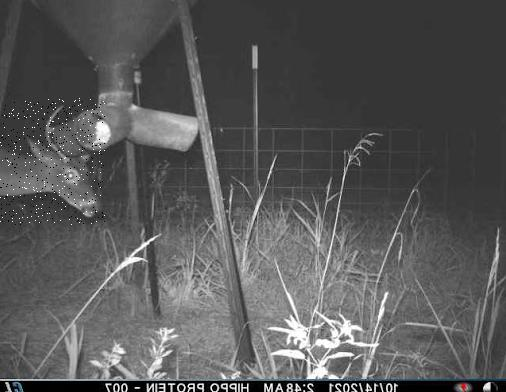Deer: (0, 98, 105, 225)
